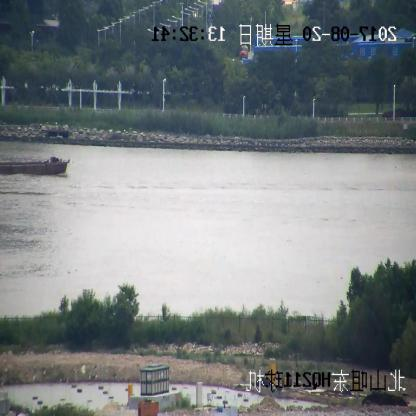Bulk Carrier: (1, 156, 69, 178)
